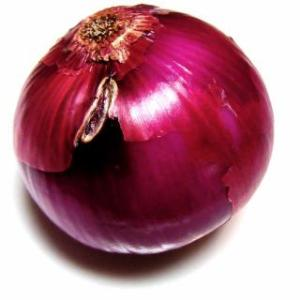onion: (12, 4, 278, 258)
